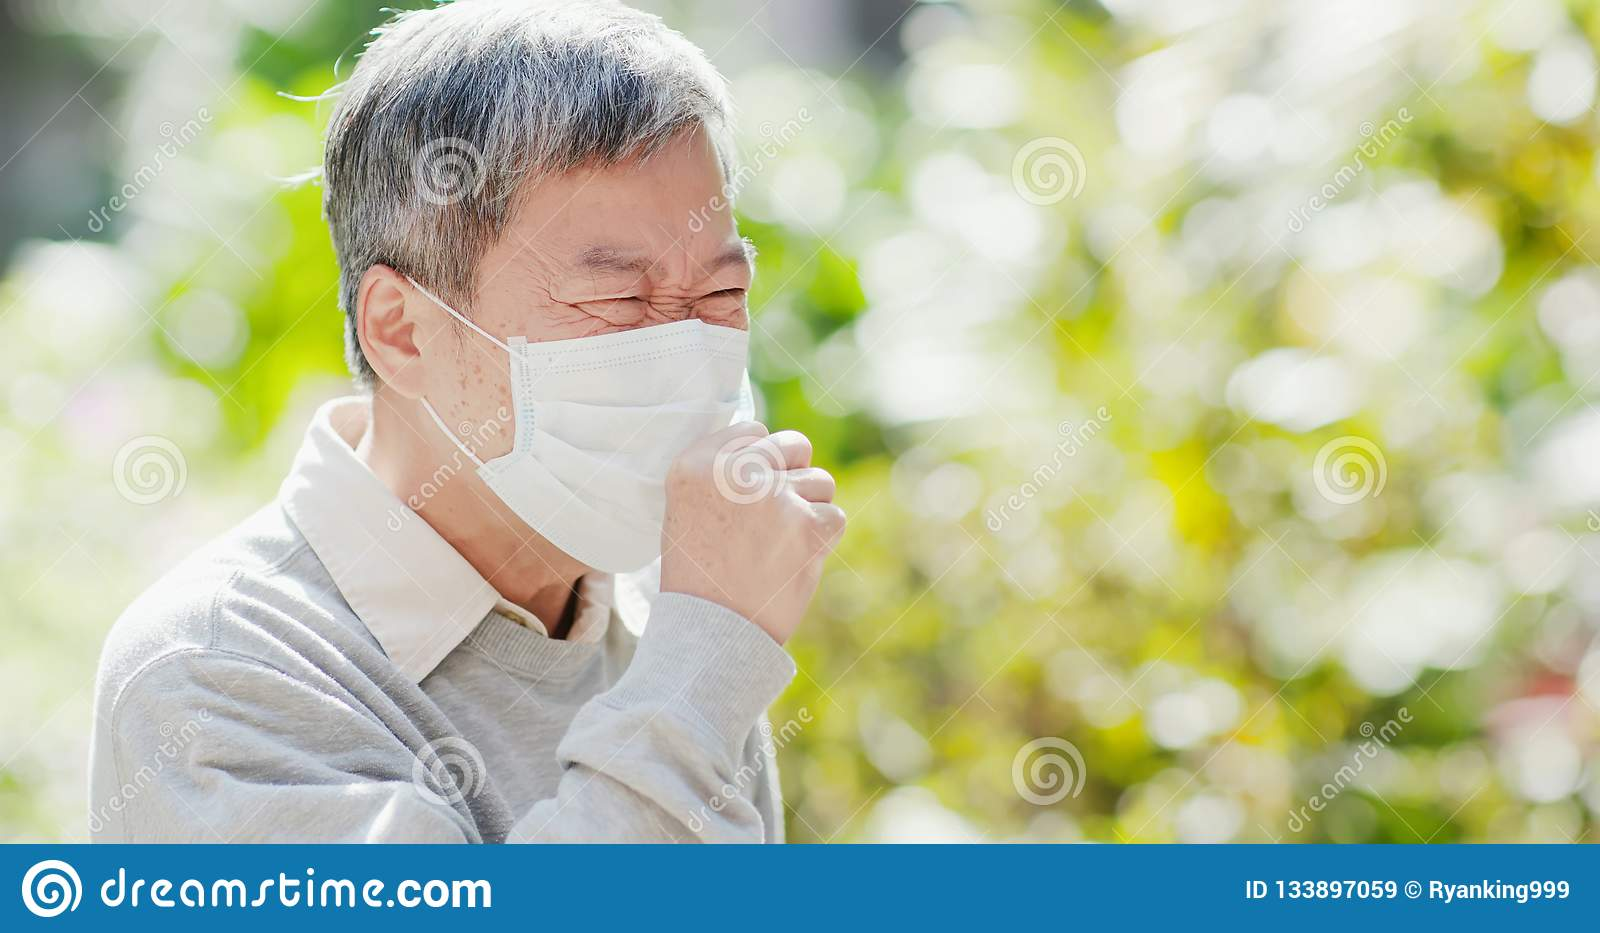mask: (482, 323, 761, 579)
